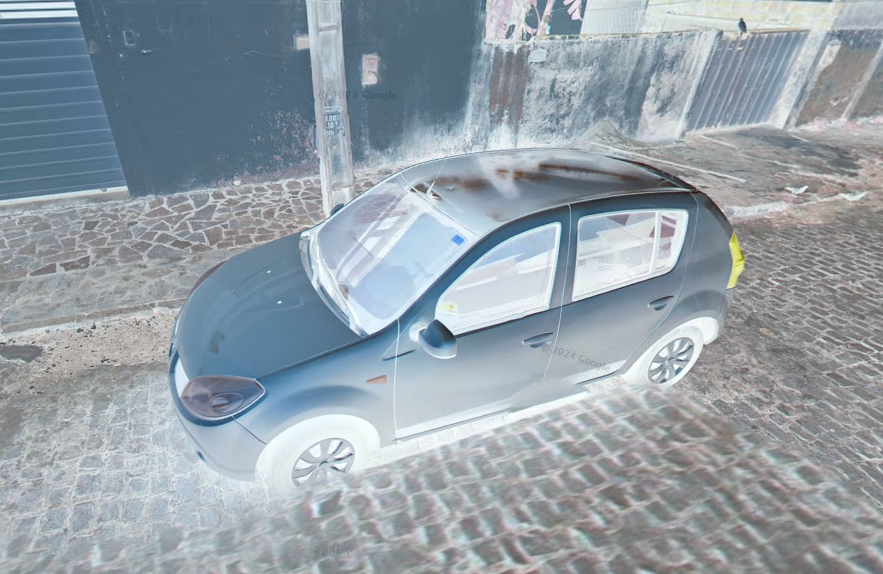car: (167, 144, 745, 495)
